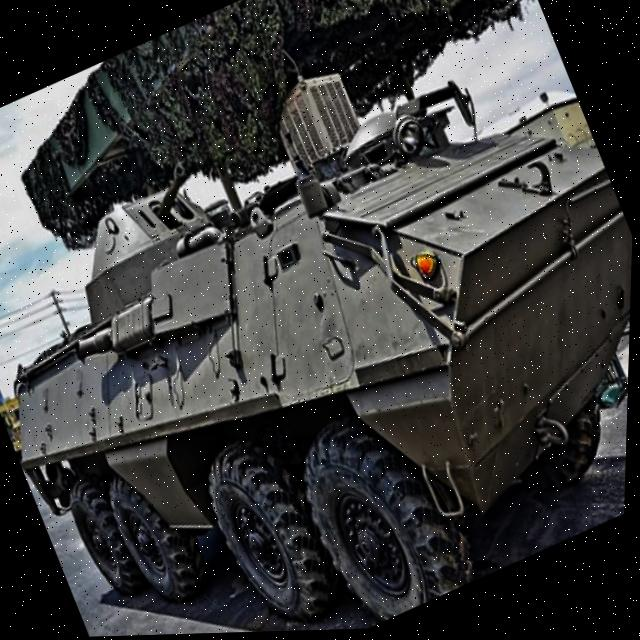MIL_APC: (0, 27, 639, 640)
